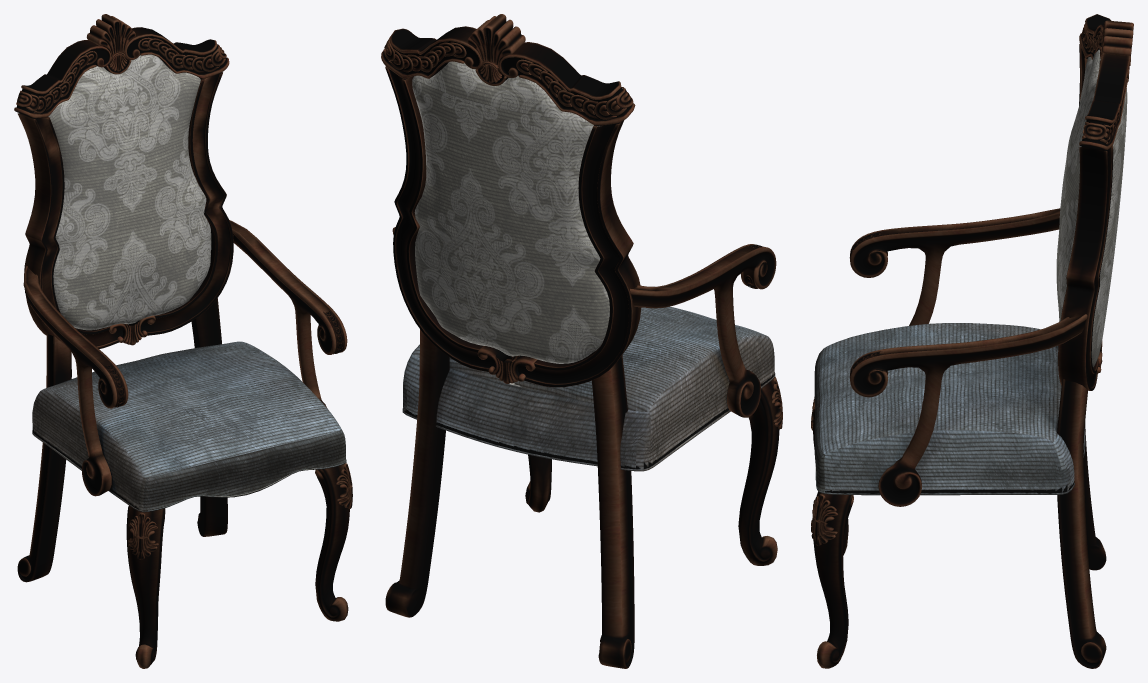
Rendered from Dining Chair1.glb.
3 views of the same model, side by side, from view 1: azimuth 30°, elevation 25°; view 2: azimuth 150°, elevation 25°; view 3: azimuth 270°, elevation 25° (orthographic). The views are drawn at different scales.
Parts seen in each view (by area): view 1: Fabric_0, Wood_1; view 2: Fabric_0, Wood_1; view 3: Wood_1, Fabric_0.
Boxes of the visible parts, x1=… form: Fabric_0: x1=32, y1=54, x2=346, y2=512; Wood_1: x1=14, y1=14, x2=352, y2=668; Fabric_0: x1=402, y1=61, x2=775, y2=471; Wood_1: x1=381, y1=14, x2=782, y2=668; Wood_1: x1=811, y1=14, x2=1133, y2=668; Fabric_0: x1=814, y1=49, x2=1127, y2=495.
Bounding box in the file's own units: 0.6292 × 1.35 × 0.6634.
Materials: 2 (2 with a texture image).
